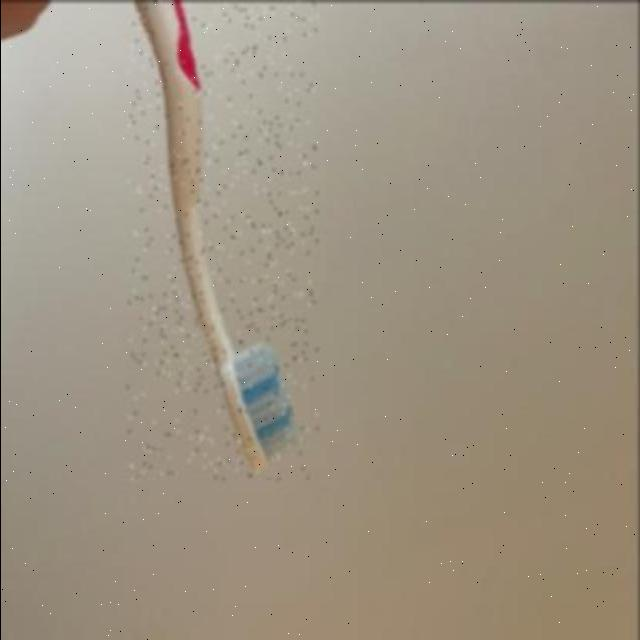toothbrush: (127, 0, 317, 478)
